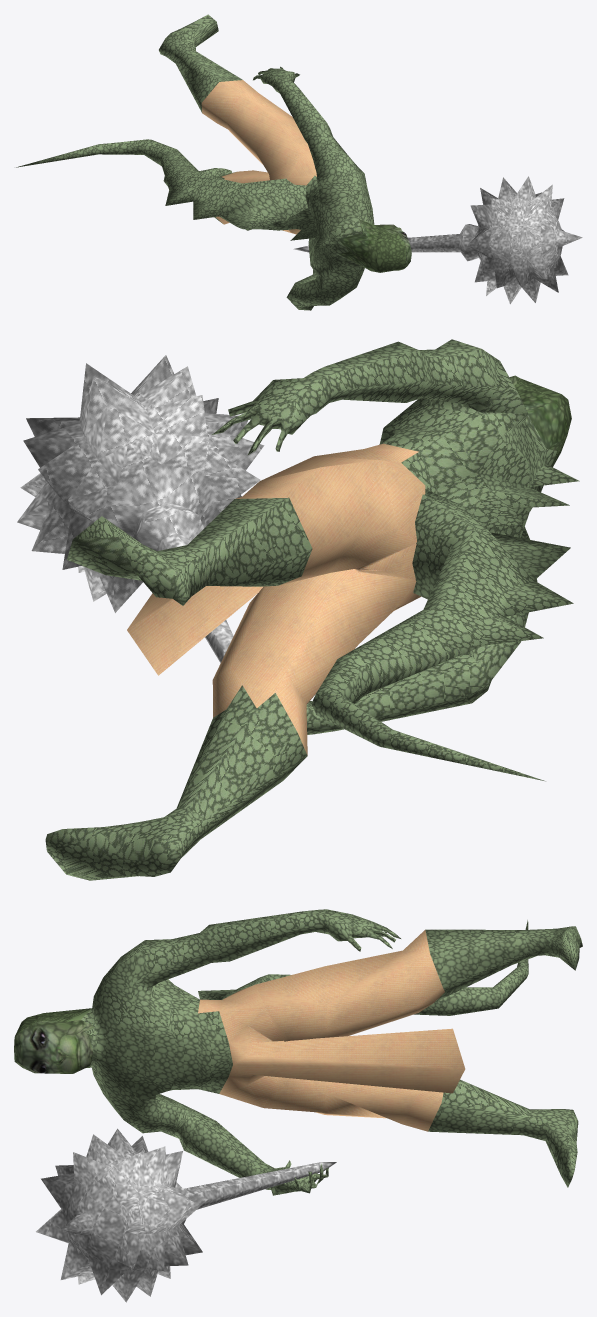
The model's file is makardhwaja_000300.obj.
3 views of the same model, one above another, from view 1: azimuth 30°, elevation 25°; view 2: azimuth 150°, elevation 25°; view 3: azimuth 270°, elevation 25° (orthographic). The views are drawn at different scales.
Parts seen in each view (by area): view 1: hanuman_Cube.000, mace_Cube.008; view 2: hanuman_Cube.000, mace_Cube.008; view 3: hanuman_Cube.000, mace_Cube.008.
Boxes of the visible parts, x1,y1,x2,y2 form: hanuman_Cube.000: (16,14,411,310); mace_Cube.008: (293,176,582,304); hanuman_Cube.000: (45,339,579,880); mace_Cube.008: (17,355,264,662); hanuman_Cube.000: (14,909,582,1195); mace_Cube.008: (36,1128,336,1302).
Bounding box in the file's own units: 3.46 × 1.63 × 3.1.
